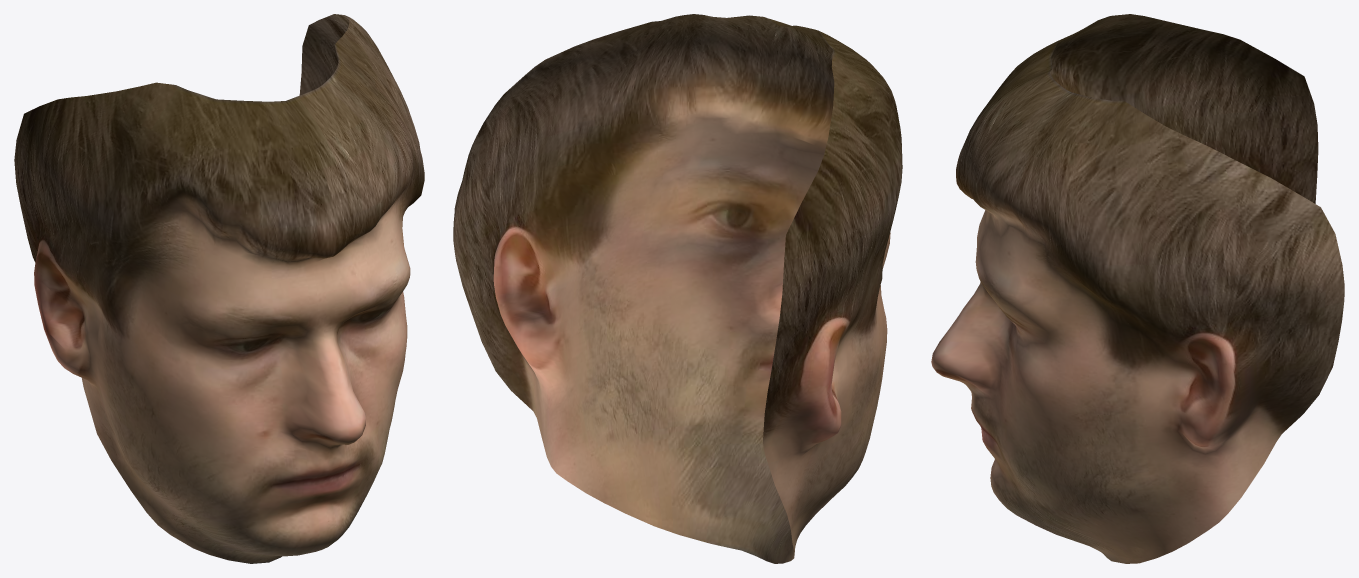
The model's file is headScan1Low.glb.
The picture shows the model from 3 angles, left to right: view 1: azimuth 30°, elevation 25°; view 2: azimuth 150°, elevation 25°; view 3: azimuth 270°, elevation 25°; orthographic projection. The views are drawn at different scales.
Visible parts, largest first — view 1: Node; view 2: Node; view 3: Node.
Part boxes in pixels (x1=…): Node: x1=14, y1=14, x2=424, y2=563; Node: x1=453, y1=14, x2=902, y2=563; Node: x1=931, y1=14, x2=1344, y2=563.
Bounding box in the file's own units: 184 × 258 × 196.
Materials: 1 (1 with a texture image).
